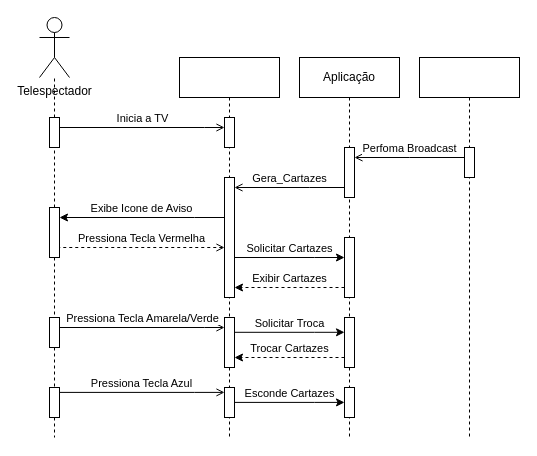
Some shapes in this 537 by 456 pixel diagram are drawn without their labels. Each missing label, with the box of its shape:
Emissora: (418, 56, 520, 438)
TV: (178, 56, 280, 438)
